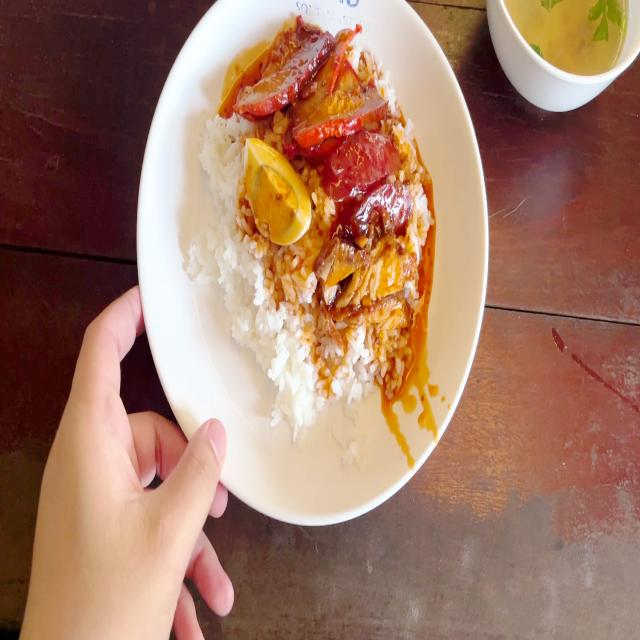boiled_egg: (248, 139, 304, 233)
chainese_sausage: (340, 124, 403, 238)
crispy_pork: (322, 243, 418, 316)
red_pork: (244, 34, 362, 144)
red_pork_and_crispy_pork: (203, 48, 429, 386)
rice: (190, 114, 251, 338), (247, 260, 314, 369), (328, 323, 399, 399)
